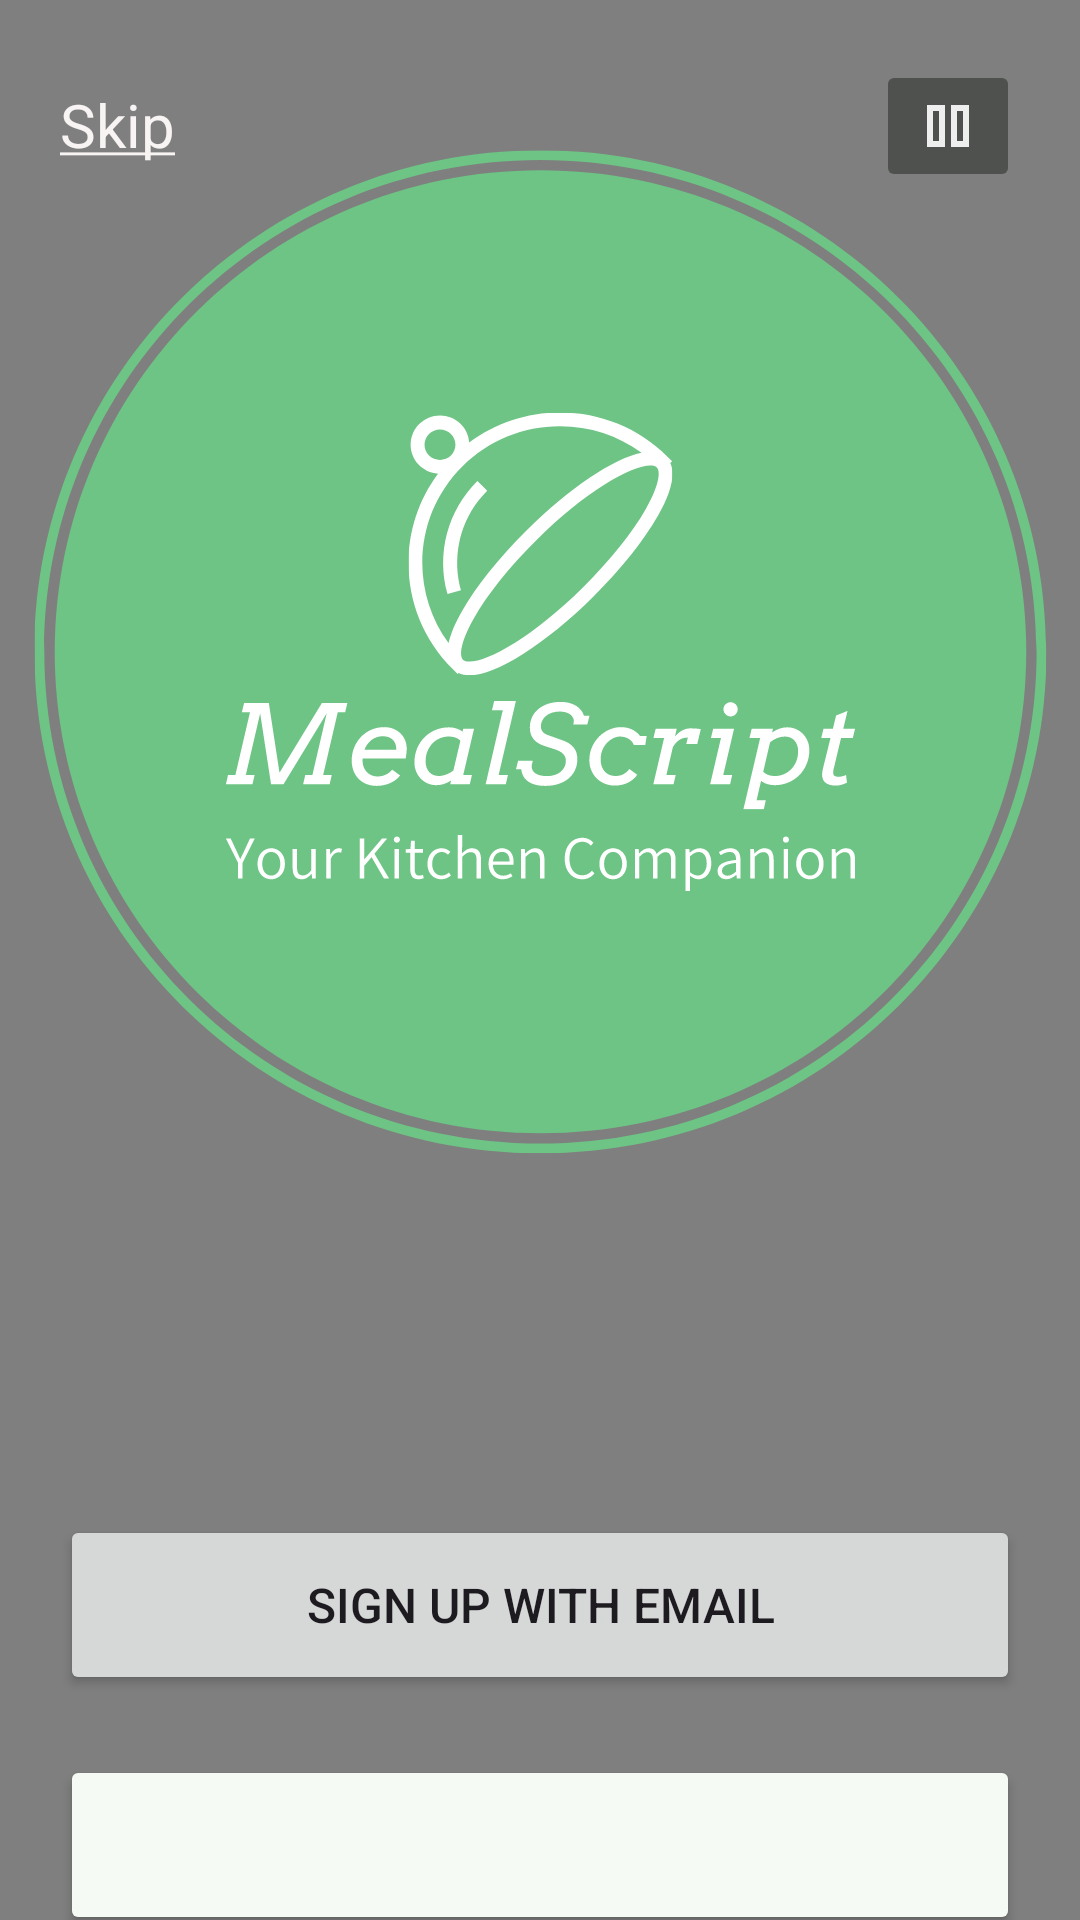

Point at icon controls on the screen. Image size 1080 × 1920, points as (x,y).
pause: (948,126)
